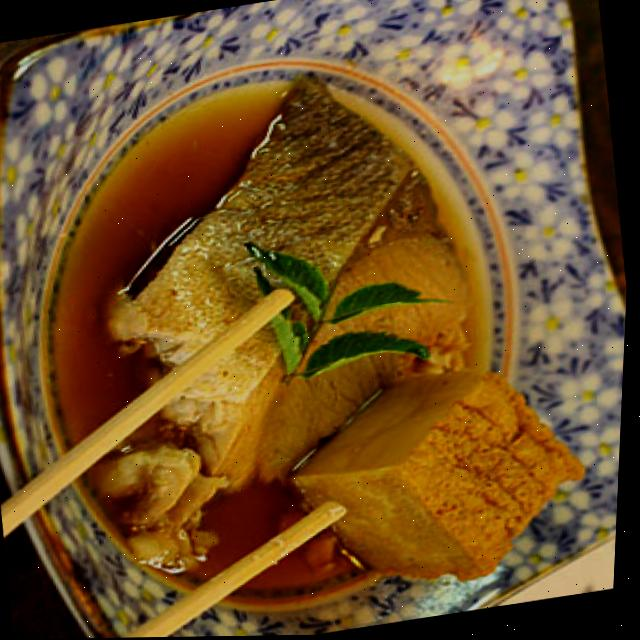熟制海鲜: (23, 26, 535, 529)
